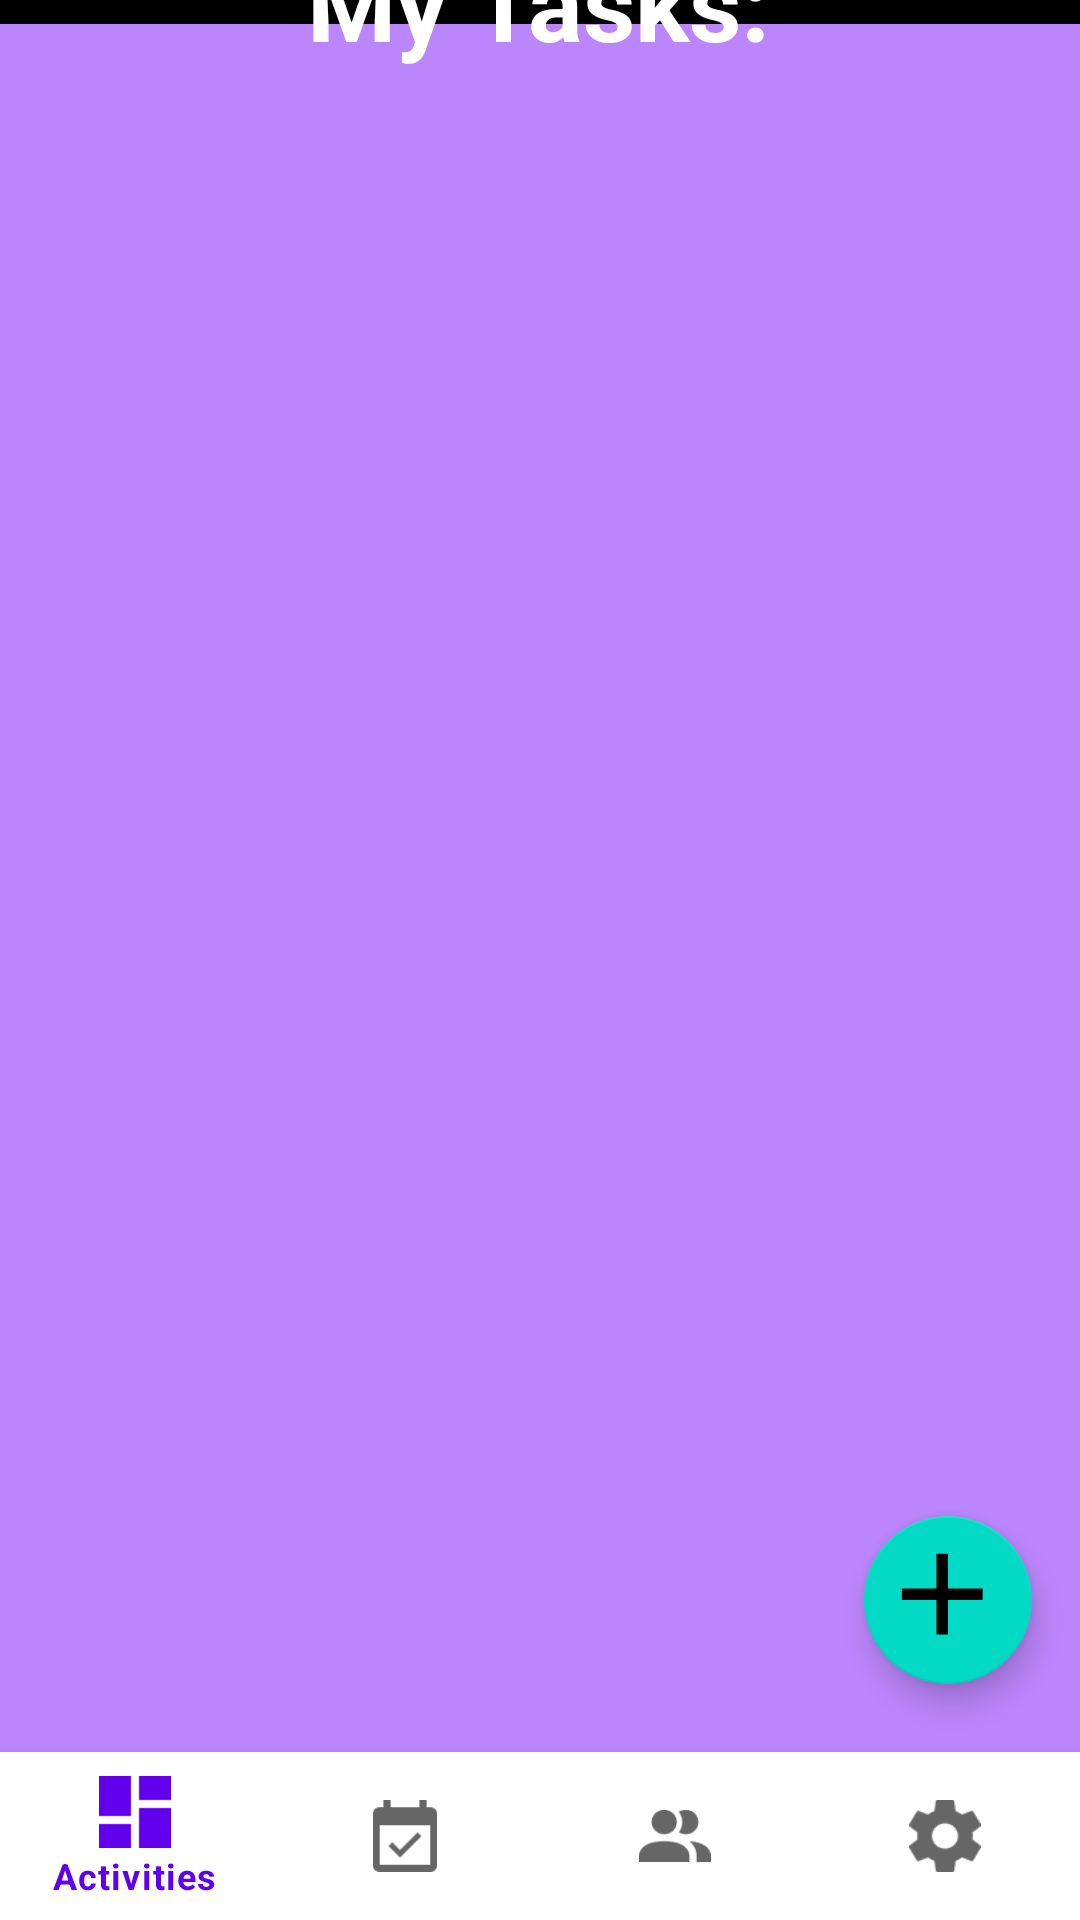

Screen size 1080x1920. Icon name, then its box in pixels as detection(x1, y1, x2, y2):
add: detection(864, 1516, 1032, 1684)
